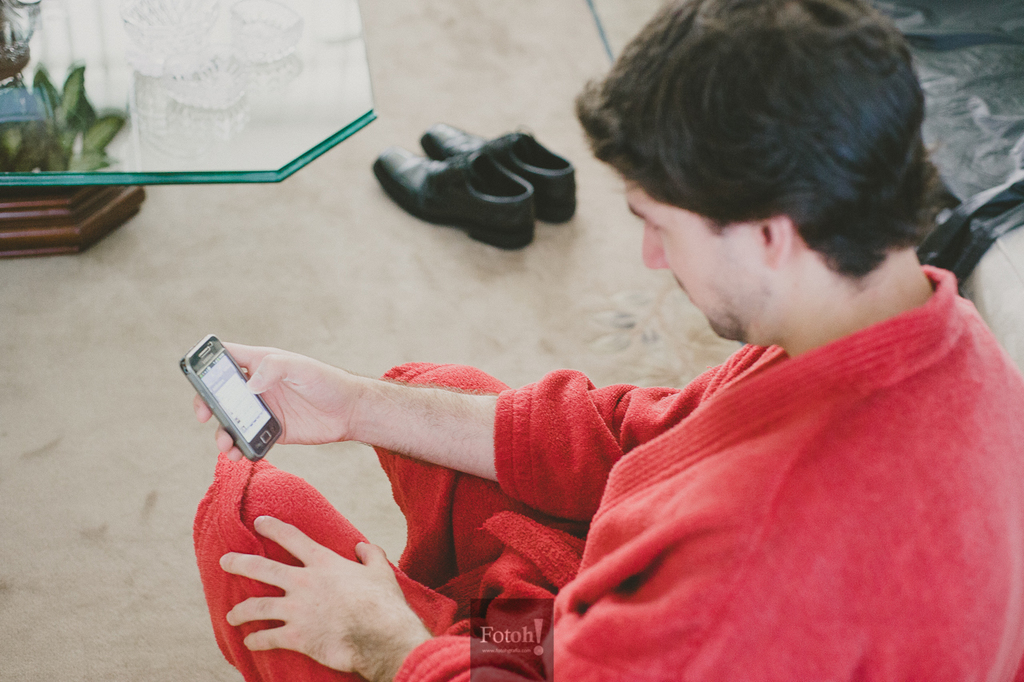Mobile-phone: (182, 333, 283, 458)
